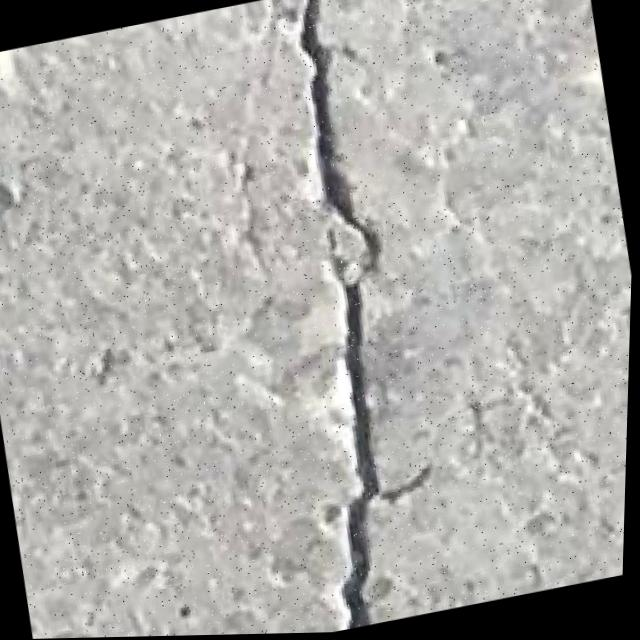Crack: (199, 0, 474, 636)
